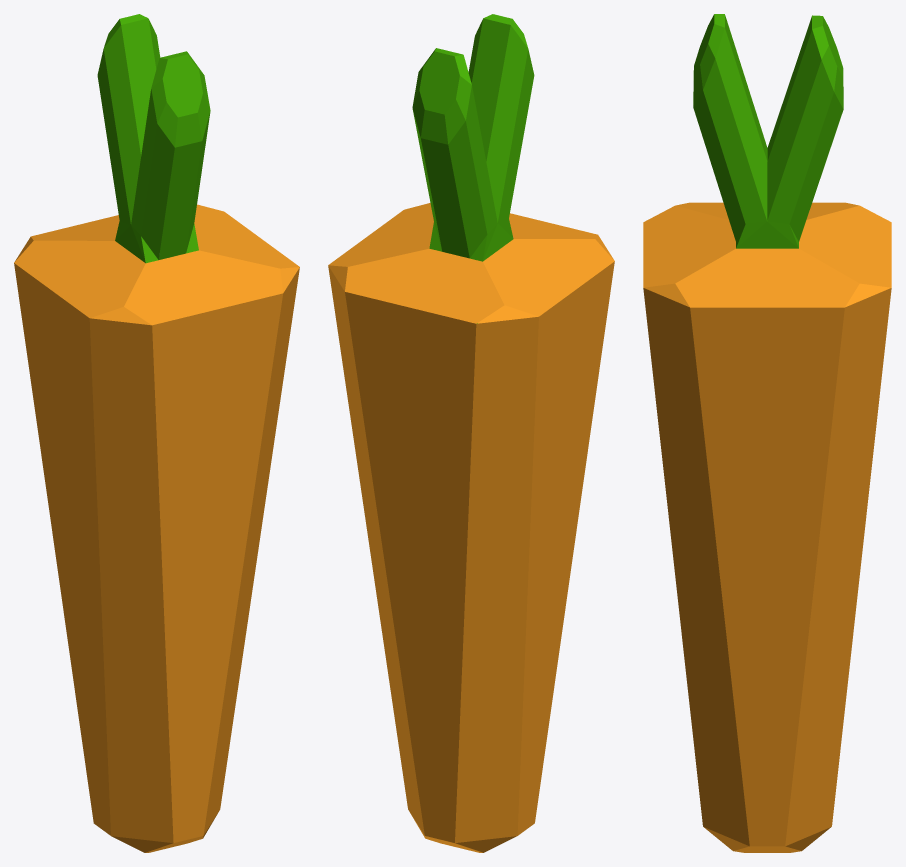
File: carrot.fbx
3 renders of one model, left to right at view 1: azimuth 30°, elevation 25°; view 2: azimuth 150°, elevation 25°; view 3: azimuth 270°, elevation 25°, orthographic. The views are drawn at different scales.
Parts seen in each view (by area): view 1: Cube; view 2: Cube; view 3: Cube.
Part boxes in pixels (x1=…): Cube: x1=14, y1=14, x2=299, y2=852; Cube: x1=328, y1=14, x2=614, y2=852; Cube: x1=643, y1=14, x2=891, y2=852.
Size of the model in its own units: 200 by 730 by 200.
